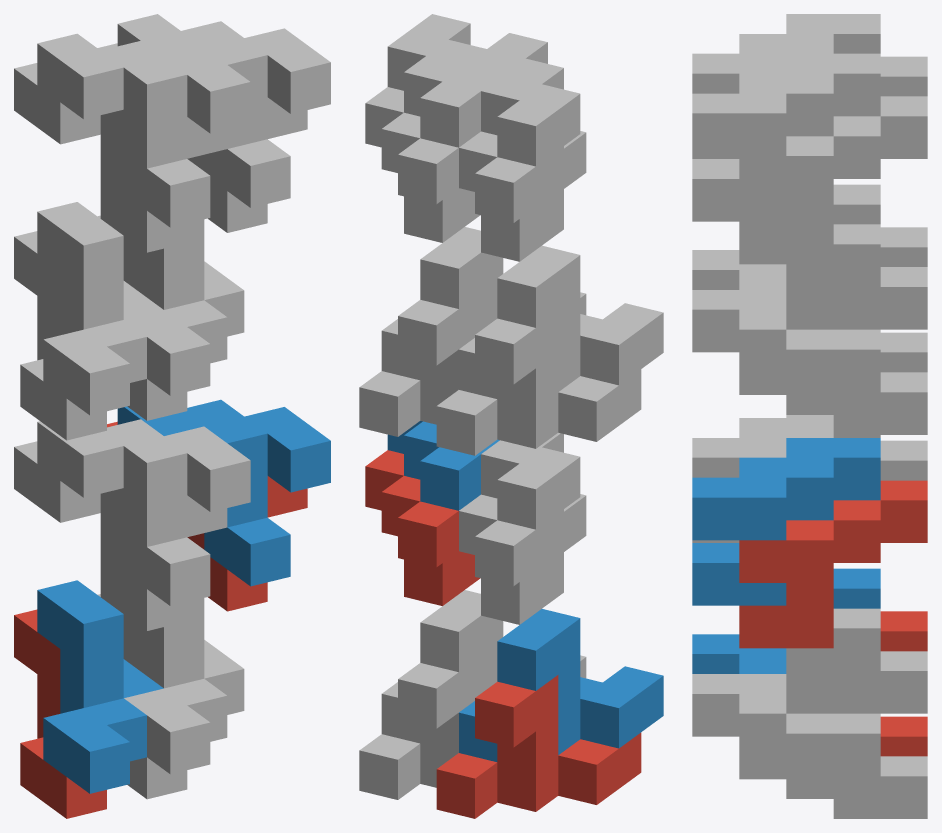
The model's file is tiling.obj.
3 renders of one model, left to right at view 1: azimuth 30°, elevation 25°; view 2: azimuth 150°, elevation 25°; view 3: azimuth 270°, elevation 25°, orthographic. The views are drawn at different scales.
Visible parts, largest first — view 1: copy_2_domain_4, copy_2_domain_2, copy_1_domain_4, copy_1_domain_2, copy_2_domain_8, copy_2_domain_6, copy_1_domain_8, copy_1_domain_6, copy_2_domain_1, copy_2_domain_3, copy_1_domain_1, copy_1_domain_3 (+4 smaller); view 2: copy_1_domain_3, copy_1_domain_1, copy_1_domain_2, copy_1_domain_4, copy_2_domain_4, copy_2_domain_8, copy_1_domain_5, copy_1_domain_7, copy_2_domain_7, copy_2_domain_5, copy_2_domain_3, copy_2_domain_1 (+4 smaller); view 3: copy_1_domain_8, copy_1_domain_6, copy_2_domain_8, copy_2_domain_6, copy_2_domain_7, copy_2_domain_5, copy_1_domain_5, copy_1_domain_7, copy_2_domain_4, copy_2_domain_2, copy_1_domain_2, copy_1_domain_4 (+4 smaller).
Part boxes in pixels (bbox=[...]): copy_2_domain_4: bbox=[37, 33, 250, 227]; copy_2_domain_2: bbox=[37, 419, 250, 605]; copy_1_domain_4: bbox=[37, 202, 163, 415]; copy_1_domain_2: bbox=[37, 580, 163, 793]; copy_2_domain_8: bbox=[117, 14, 330, 207]; copy_2_domain_6: bbox=[117, 399, 330, 586]; copy_1_domain_8: bbox=[123, 219, 244, 395]; copy_1_domain_6: bbox=[123, 598, 244, 774]; copy_2_domain_1: bbox=[14, 441, 227, 630]; copy_2_domain_3: bbox=[14, 63, 227, 252]; copy_1_domain_1: bbox=[14, 609, 106, 818]; copy_1_domain_3: bbox=[14, 231, 106, 440]; copy_1_domain_3: bbox=[436, 312, 641, 455]; copy_1_domain_1: bbox=[436, 675, 641, 818]; copy_1_domain_2: bbox=[459, 609, 663, 761]; copy_1_domain_4: bbox=[459, 245, 663, 398]; copy_2_domain_4: bbox=[465, 33, 586, 204]; copy_2_domain_8: bbox=[387, 14, 502, 147]; copy_1_domain_5: bbox=[359, 656, 480, 799]; copy_1_domain_7: bbox=[359, 293, 480, 436]; copy_2_domain_7: bbox=[365, 87, 480, 242]; copy_2_domain_5: bbox=[365, 450, 480, 605]; copy_2_domain_3: bbox=[459, 131, 563, 261]; copy_2_domain_1: bbox=[459, 494, 563, 624]; copy_1_domain_8: bbox=[692, 224, 880, 392]; copy_1_domain_6: bbox=[692, 608, 880, 776]; copy_2_domain_8: bbox=[692, 53, 880, 221]; copy_2_domain_6: bbox=[692, 438, 880, 605]; copy_2_domain_7: bbox=[739, 96, 927, 264]; copy_2_domain_5: bbox=[739, 480, 927, 648]; copy_1_domain_5: bbox=[739, 651, 927, 818]; copy_1_domain_7: bbox=[739, 267, 927, 434]; copy_2_domain_4: bbox=[692, 14, 880, 158]; copy_2_domain_2: bbox=[692, 415, 880, 542]; copy_1_domain_2: bbox=[692, 568, 880, 673]; copy_1_domain_4: bbox=[692, 184, 880, 289].
Size of the model in its own units: 6 by 17 by 5.
